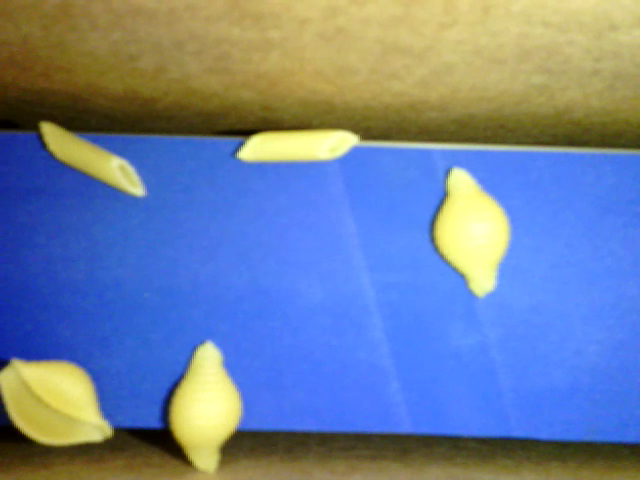penne: (38, 121, 148, 197), (234, 128, 360, 163)
shell: (1, 356, 114, 447), (430, 165, 507, 298), (168, 338, 242, 473)
